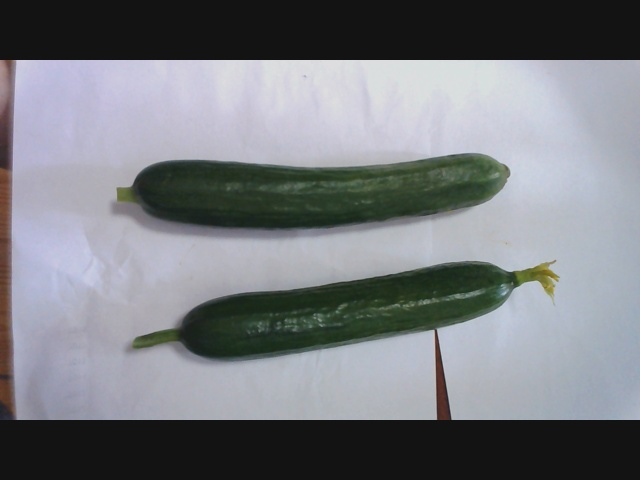cucumber: (141, 257, 554, 356), (118, 147, 530, 231)
